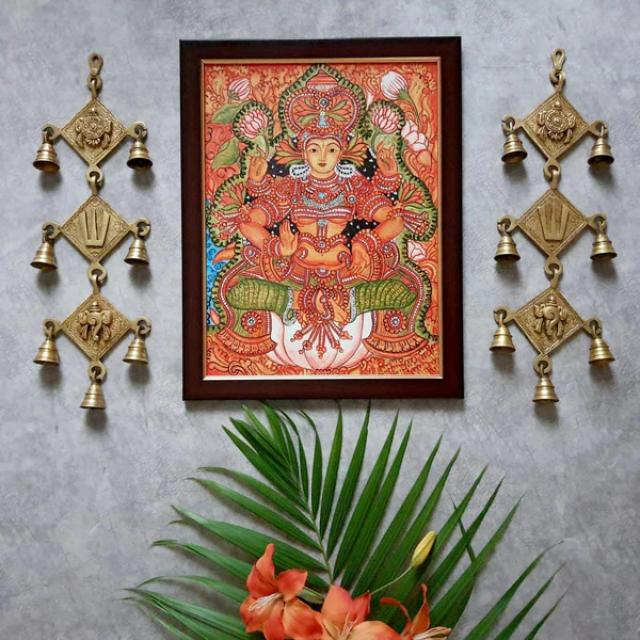painting: (181, 34, 465, 401)
